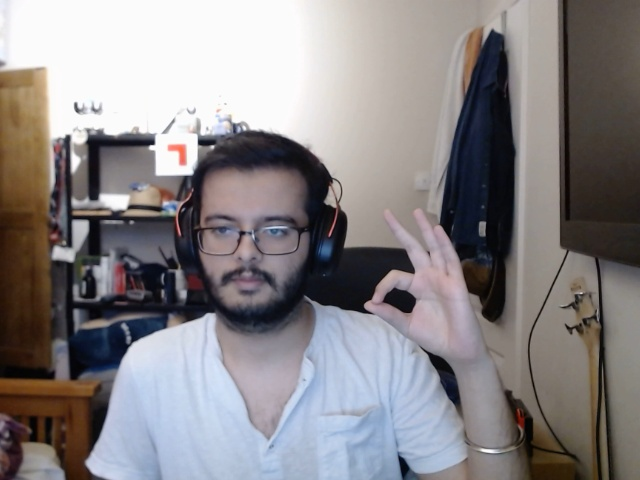Okay: (361, 204, 480, 373)
